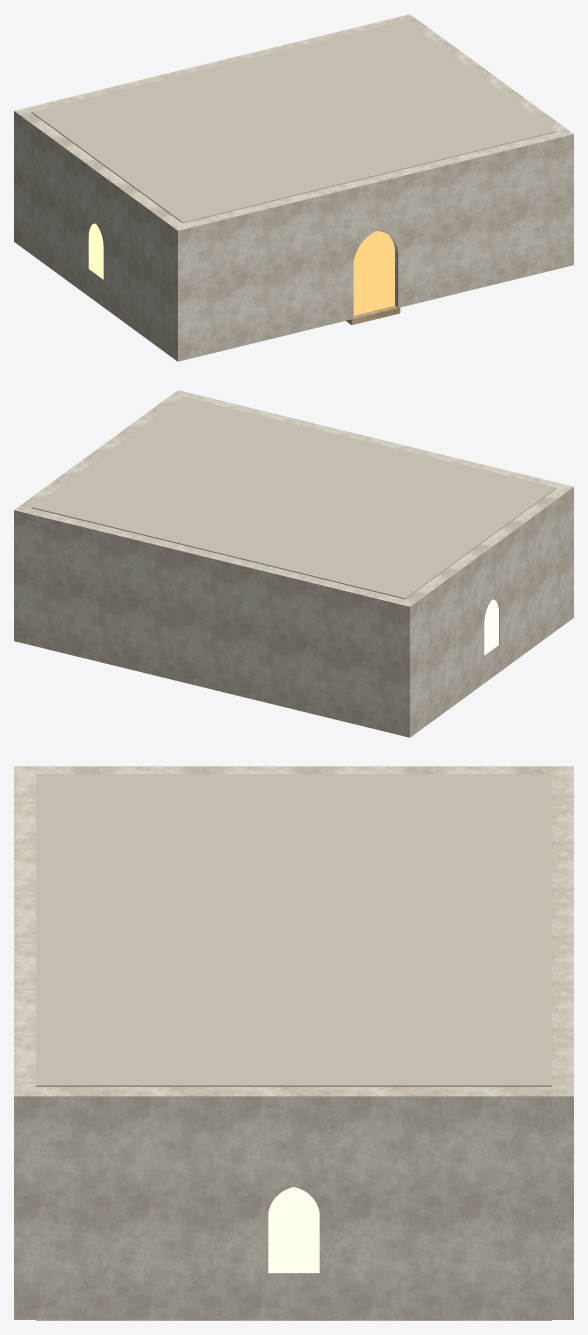
Rendered from station_clothing.glb.
3 views of the same model, one above another, from view 1: azimuth 30°, elevation 25°; view 2: azimuth 150°, elevation 25°; view 3: azimuth 270°, elevation 25° (orthographic). The views are drawn at different scales.
Visible parts, largest first — view 1: clothing_Static, Portal_exit, Window_Glow; view 2: clothing_Static, Window_Glow; view 3: clothing_Static, Window_Glow.
Part boxes in pixels (x1,y1,x2,y2): clothing_Static: (14,14,573,361); Portal_exit: (353,231,394,315); Window_Glow: (89,223,103,278); clothing_Static: (14,390,573,737); Window_Glow: (484,599,498,654); clothing_Static: (14,766,573,1320); Window_Glow: (268,1187,319,1272).
Size of the model in its own units: 21.2 by 7.05 by 15.2.
Materials: 25 (13 with a texture image).
